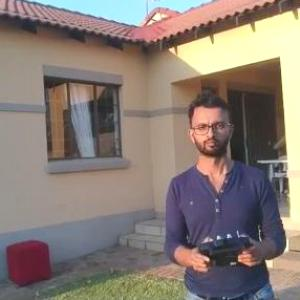follow: (163, 87, 292, 299)
